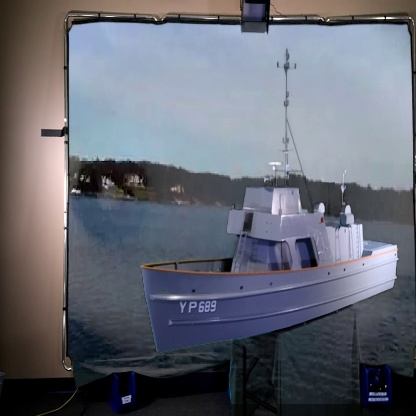YP689: (139, 34, 400, 357)
